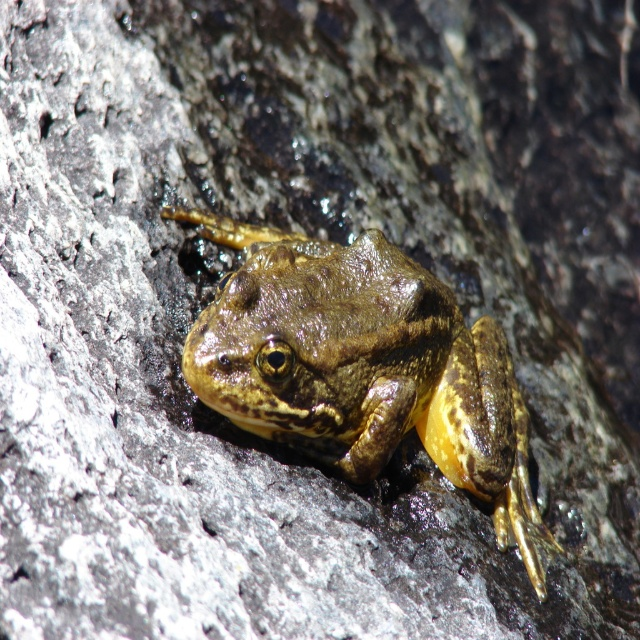Frog: (159, 210, 563, 605)
